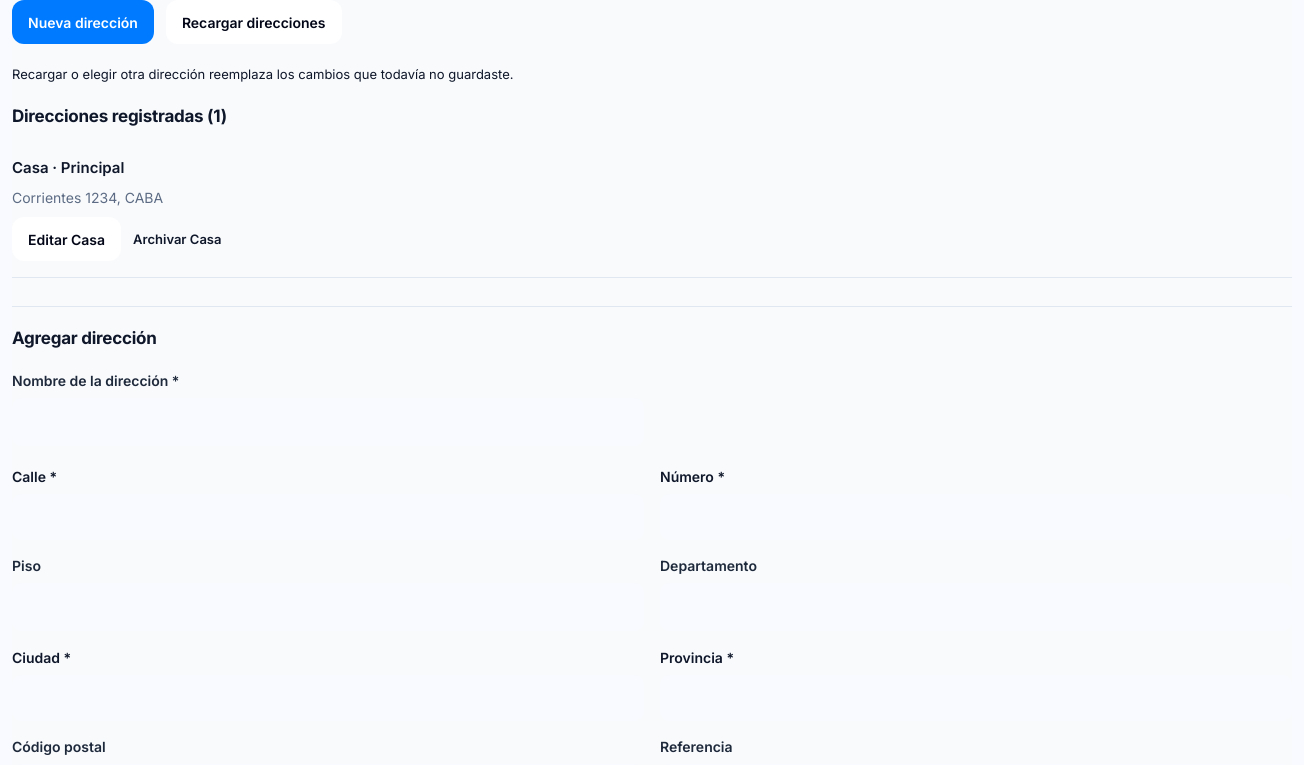
customer location entry points › preserves editing a saved address label without requiring another location lookup
Click the button "Editar Casa" at (67, 240), box [12,218,121,262]
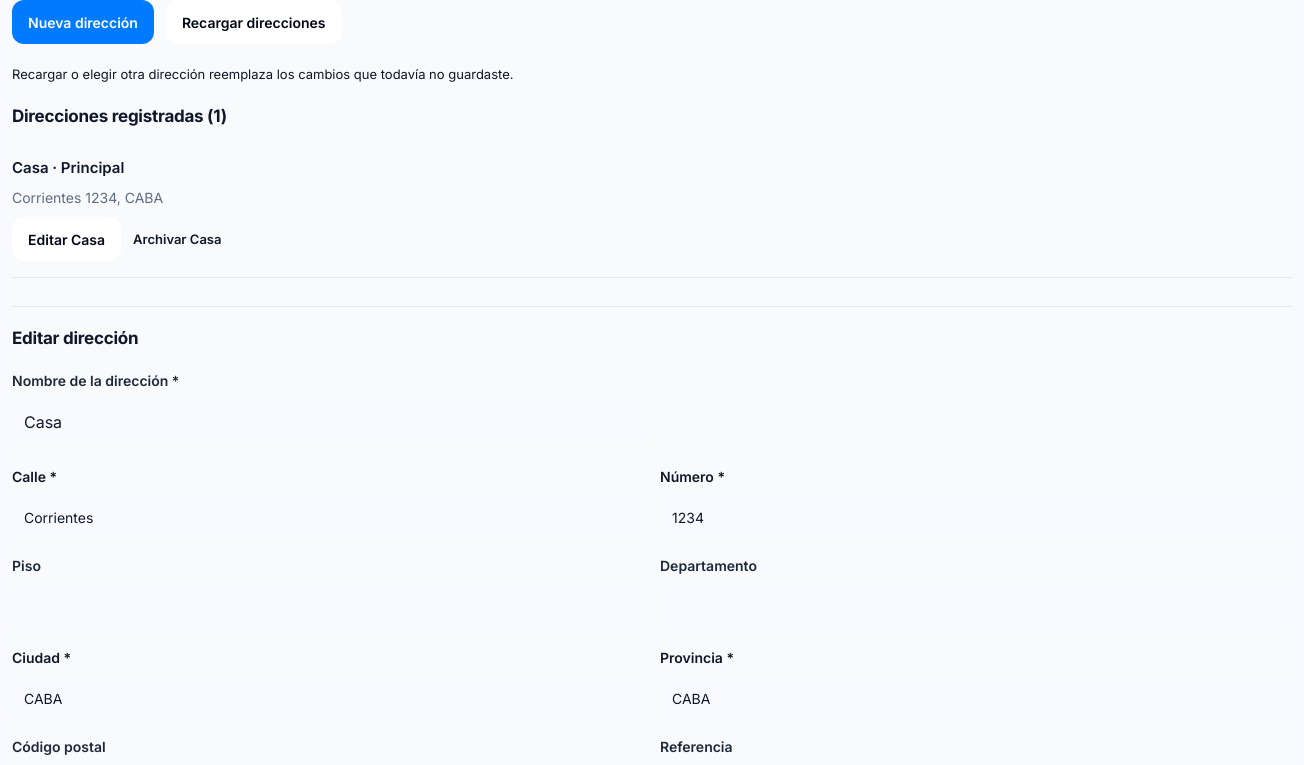
Replace the text in the field labelled "Nombre de la dirección *" with "Casa principal" at (328, 422), box [12,398,644,446]
(page scrolled)
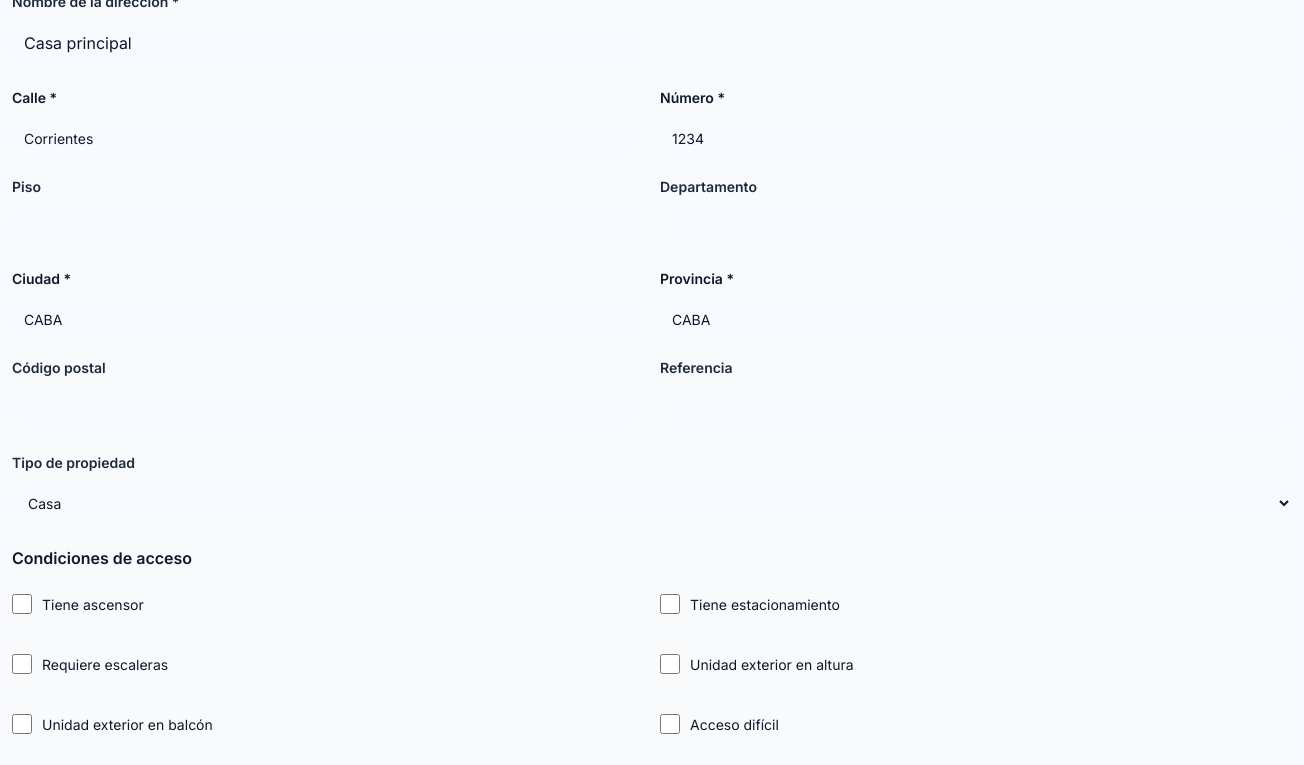
Submit the form
(page scrolled)
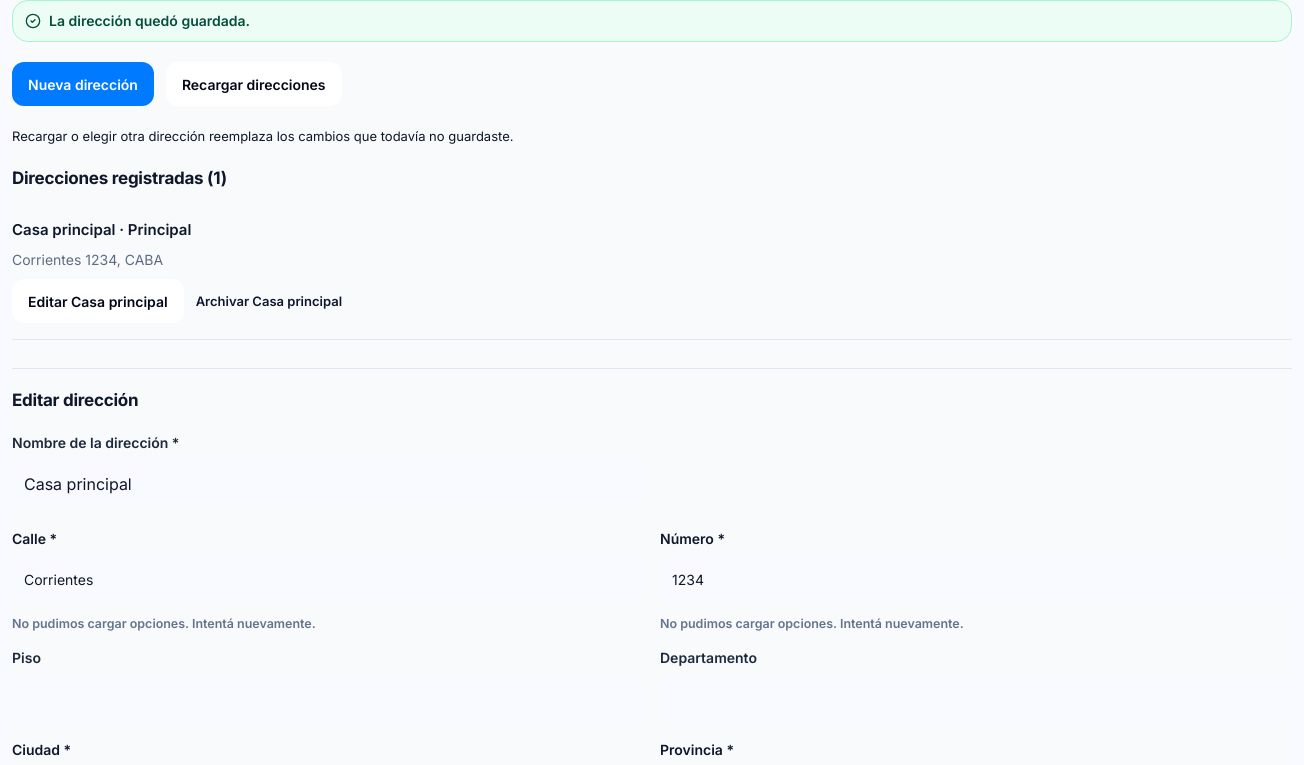
Expected: the text "La dirección quedó guardada." is shown, [49,11,250,31]
